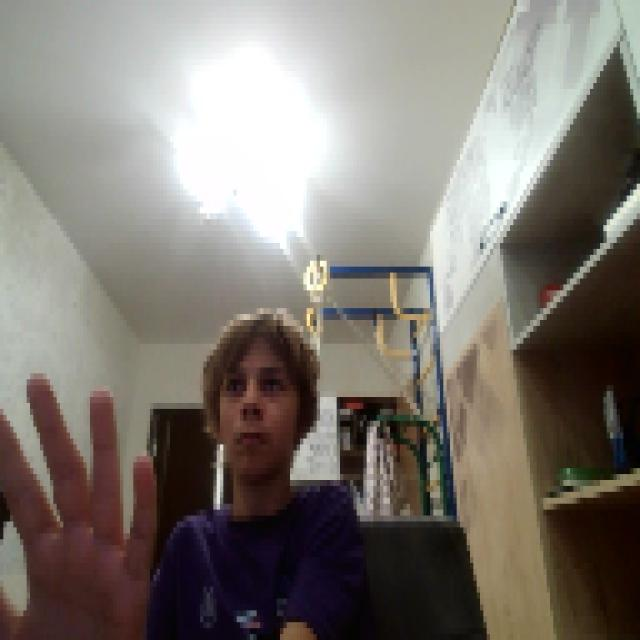hand: (0, 367, 153, 633)
